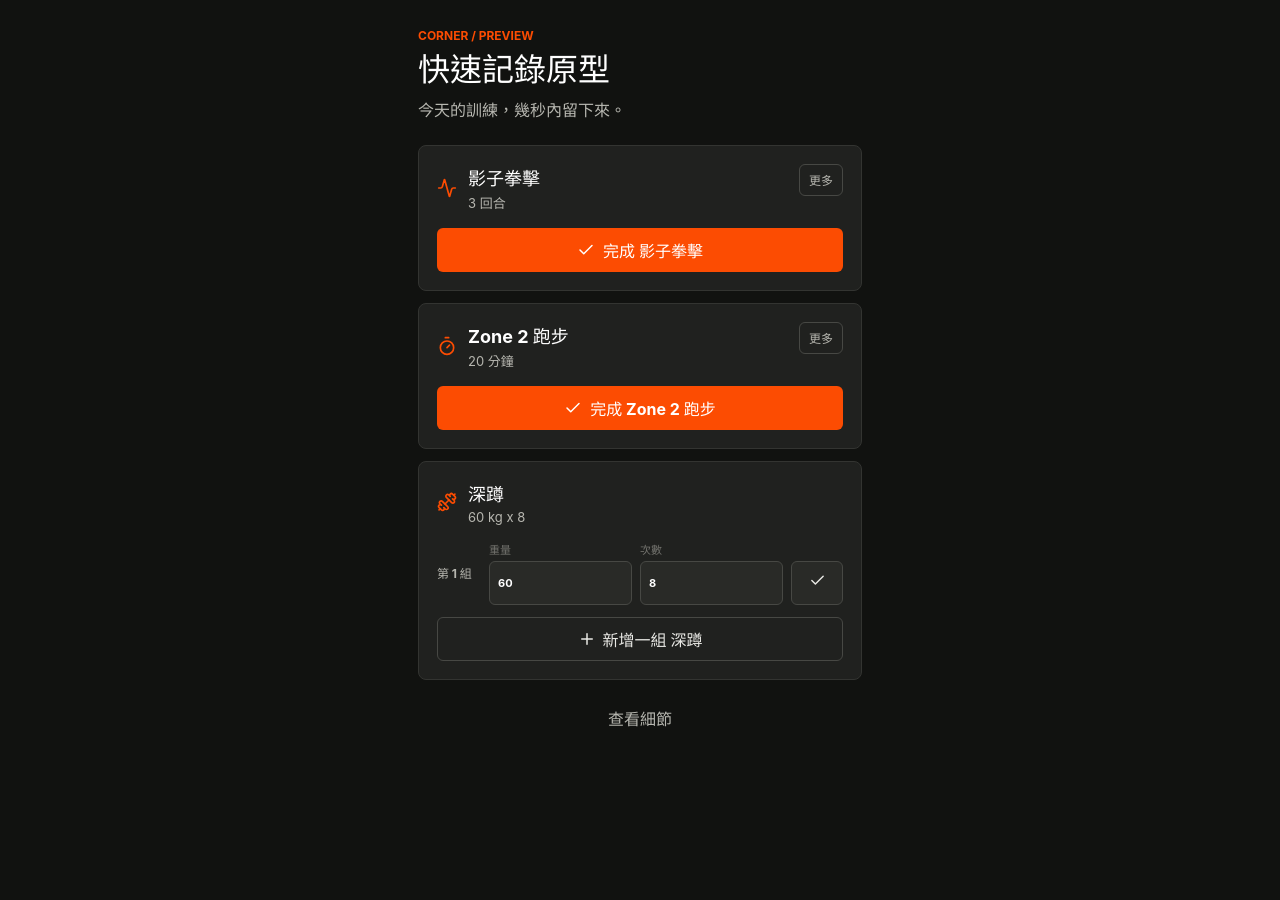
Test: Boxing Tracker › closes the optional details sheet with Escape, backdrop, and close button
Click the button "查看細節" at (640, 718), box top-left (418, 696), bottom-right (862, 740)
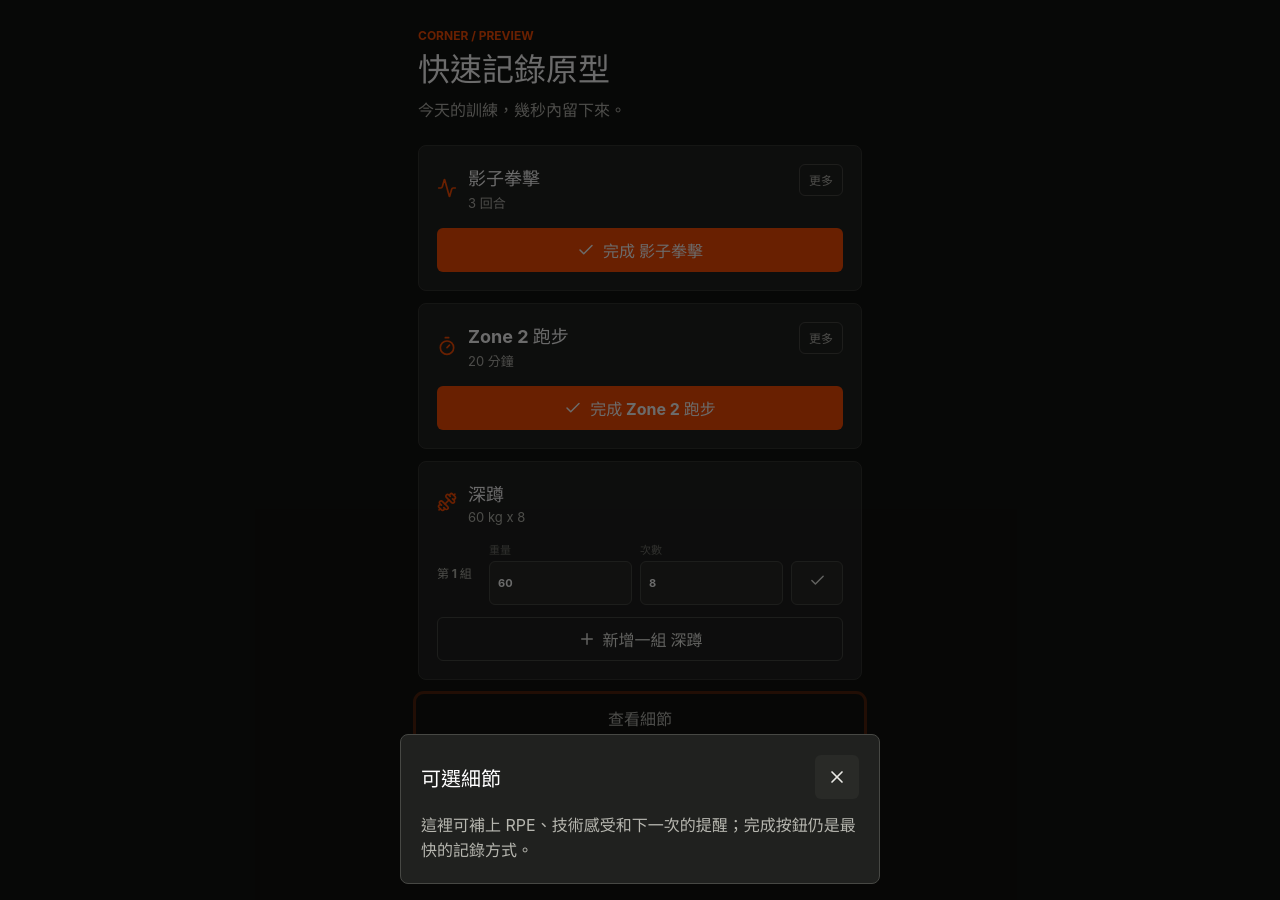
Press Escape
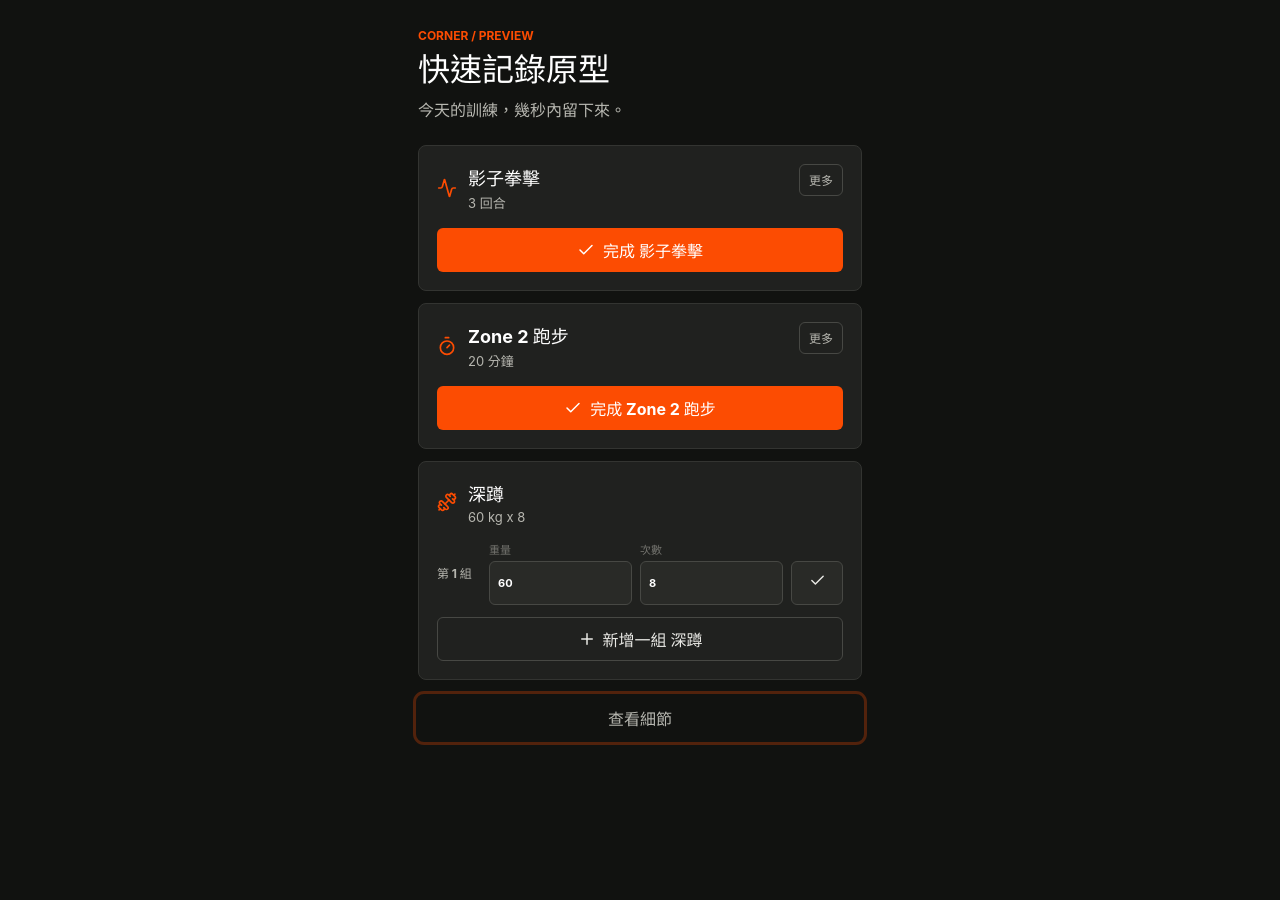
Expected: the dialog "訓練細節" is gone
Click the button "查看細節" at (640, 718), box top-left (418, 696), bottom-right (862, 740)
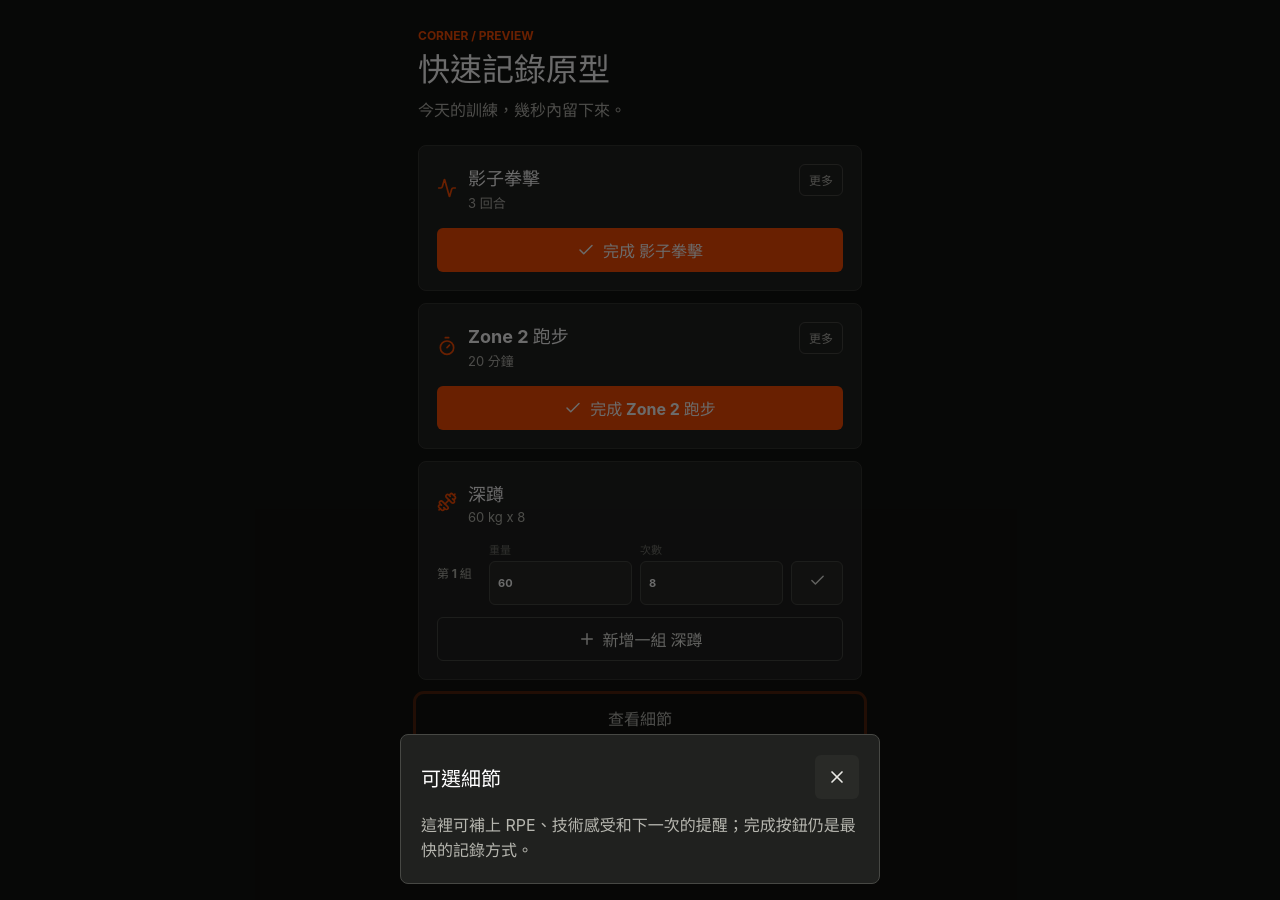
Click the button named "關閉" at (837, 777), box top-left (815, 755), bottom-right (859, 799)
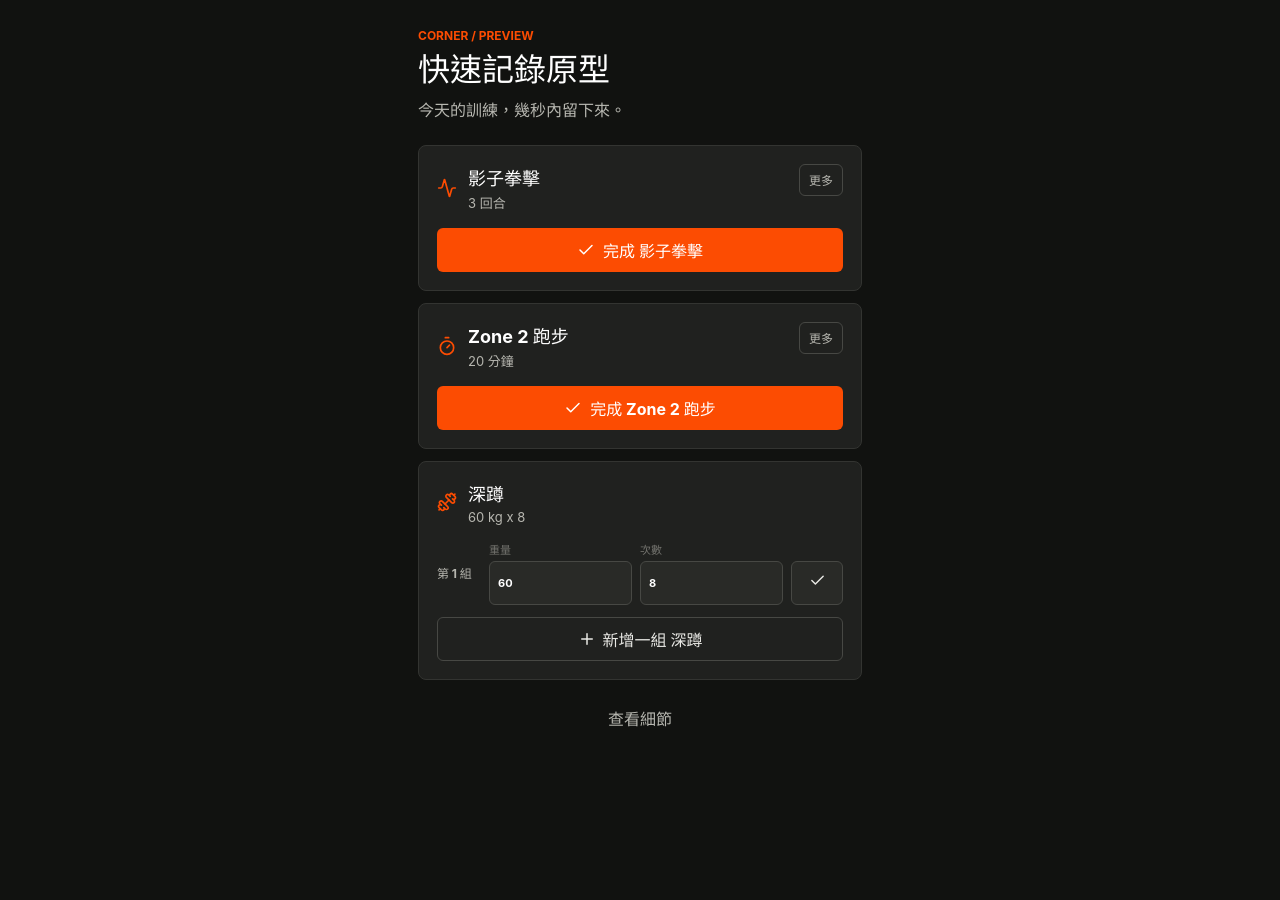
Expected: the dialog "訓練細節" is gone
Click the button "查看細節" at (640, 718), box top-left (418, 696), bottom-right (862, 740)
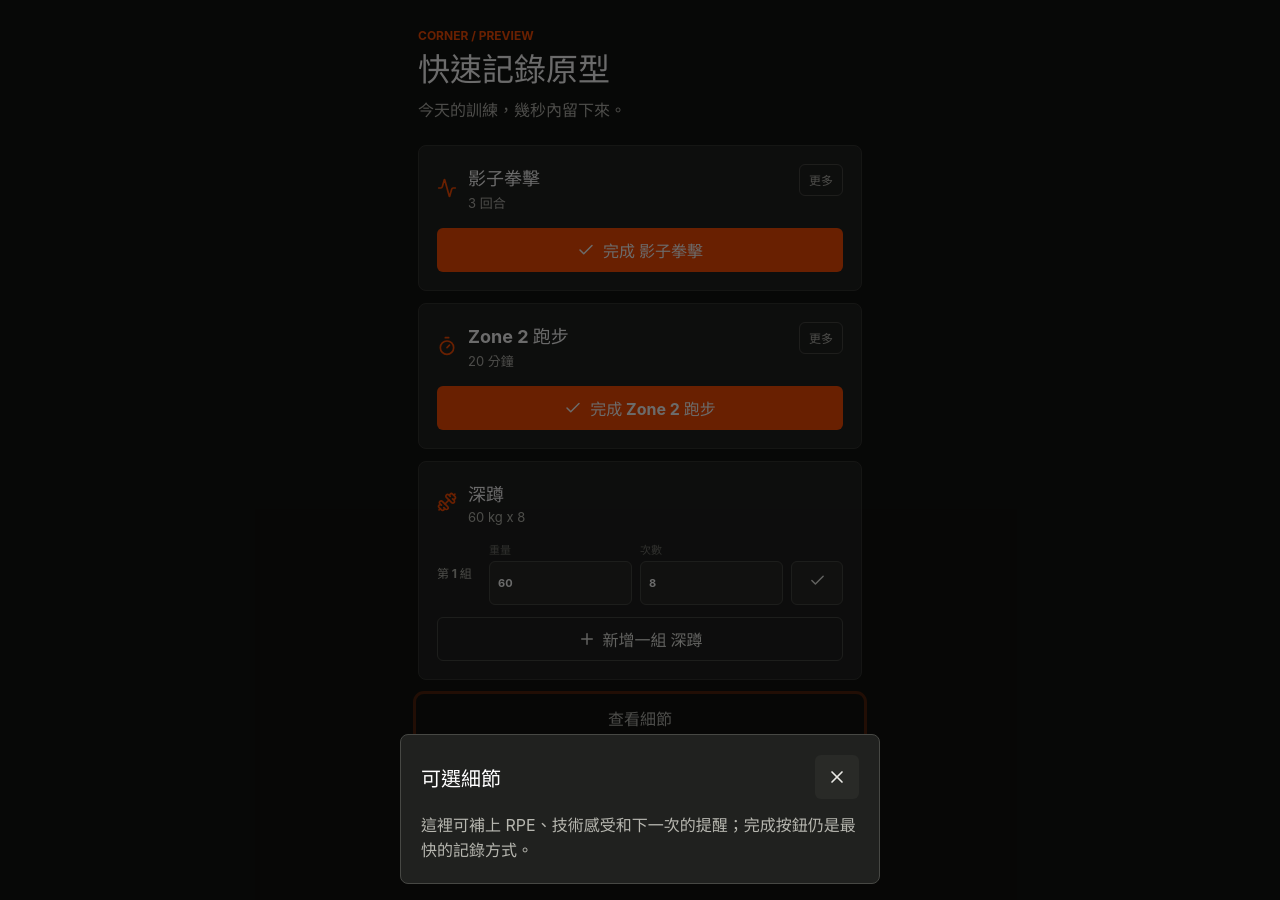
Click the element with test id "details-backdrop" at (640, 450), box top-left (0, 0), bottom-right (1279, 899)
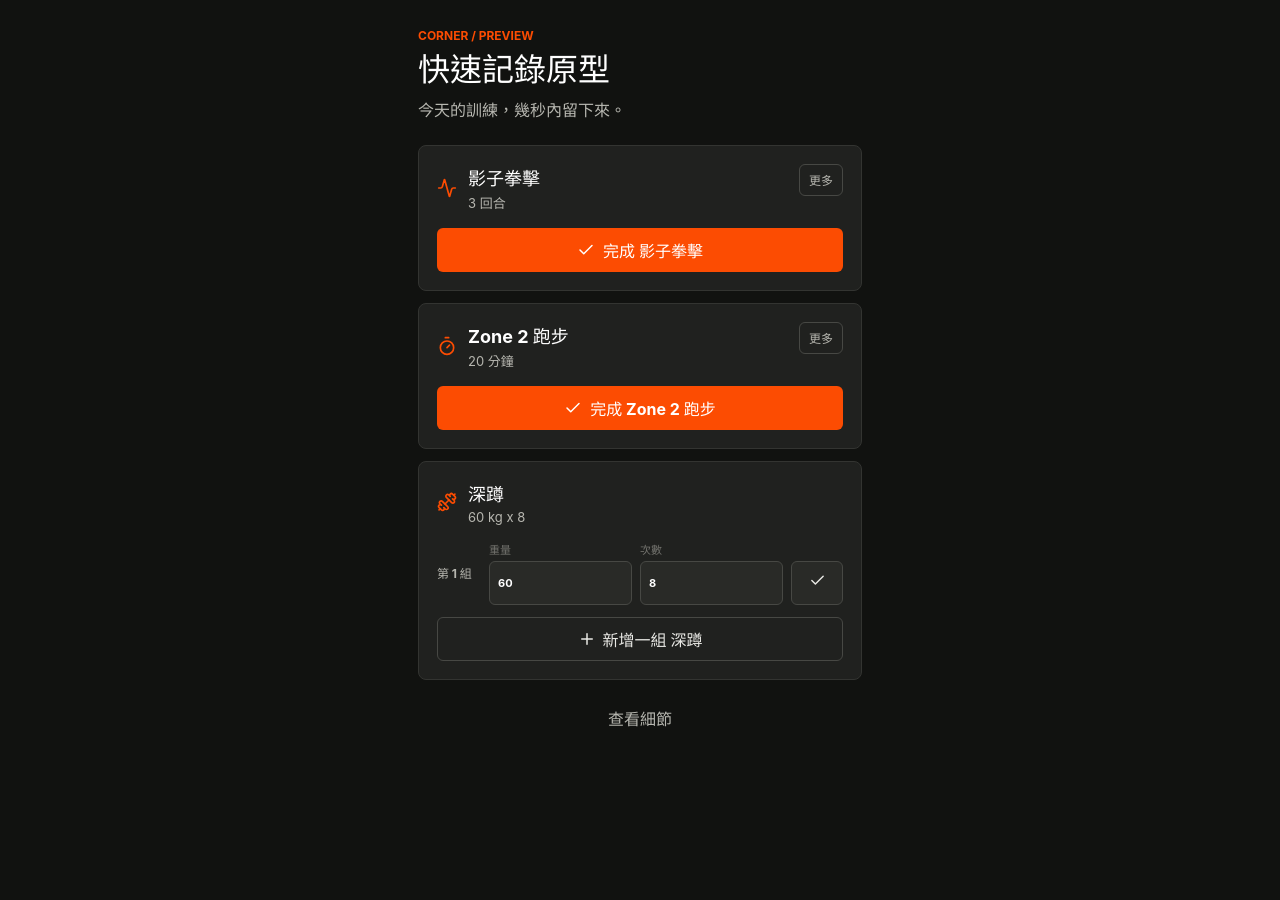
Expected: the dialog "訓練細節" is gone
